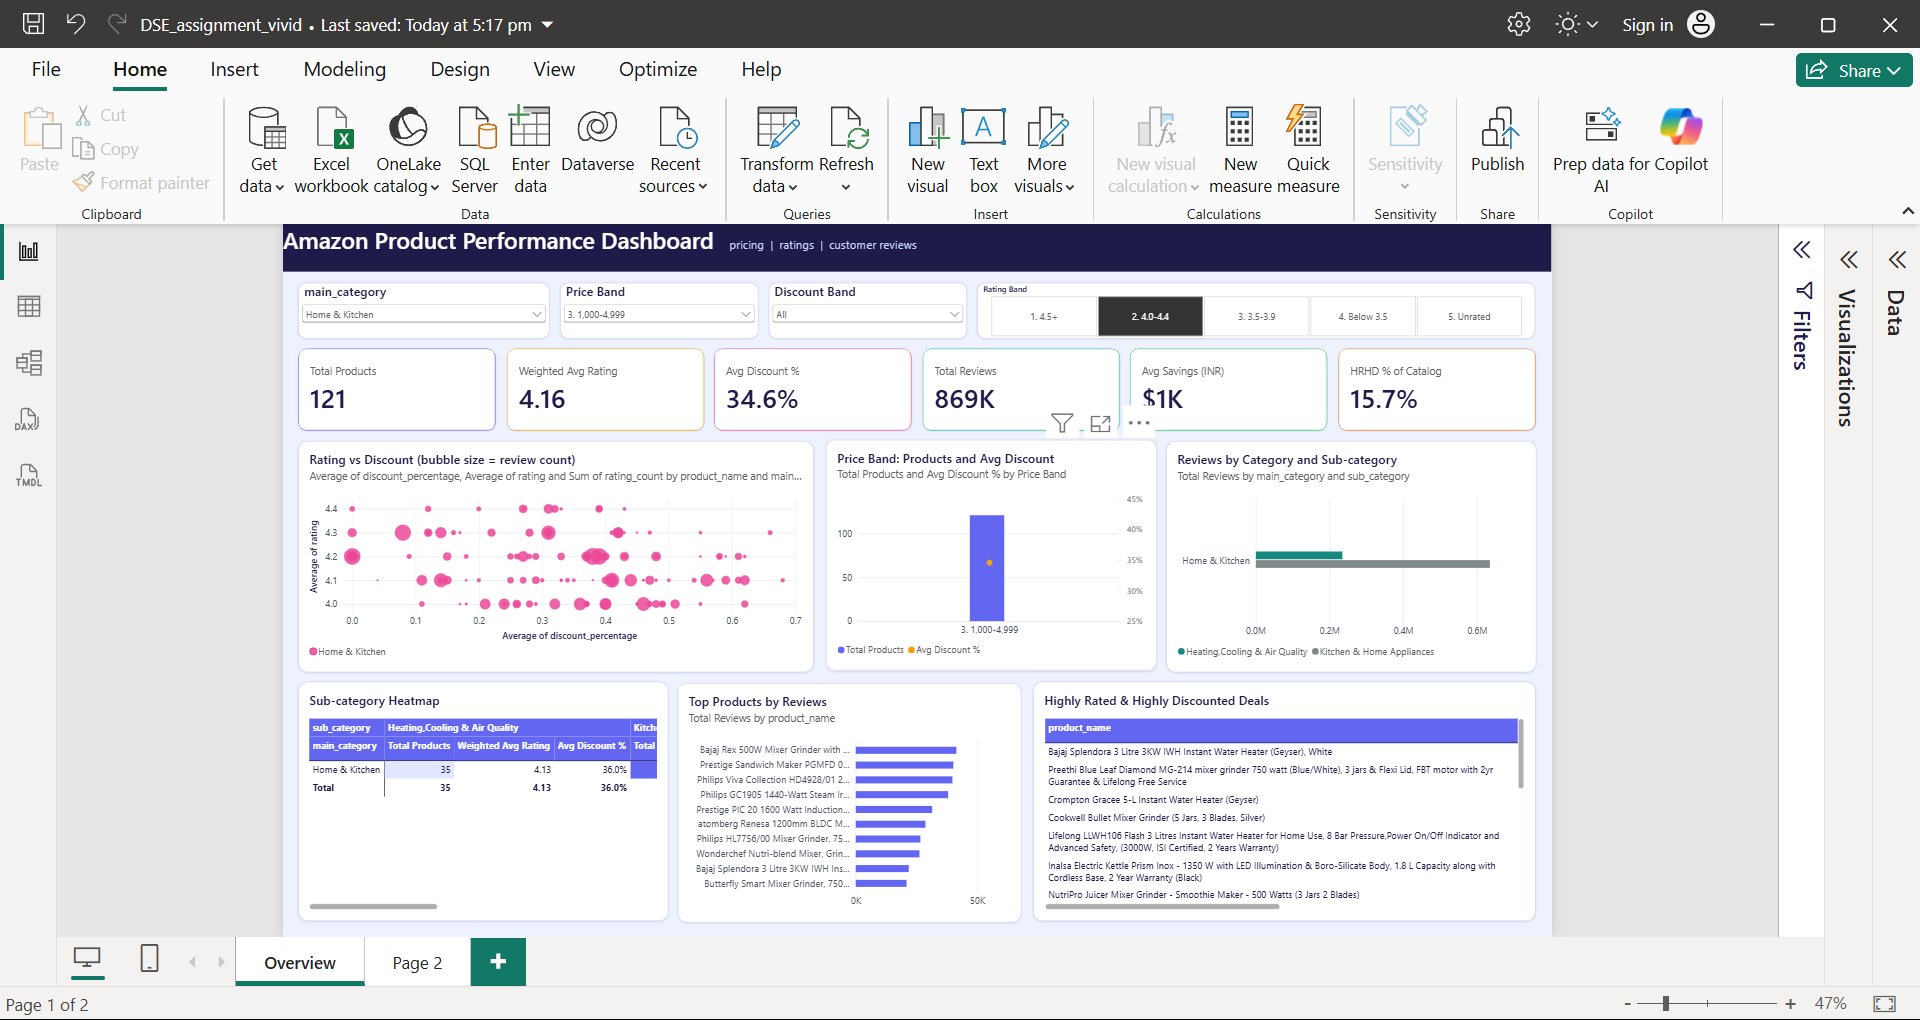

Layout of this report page (visuals, bound fields, positions):
{"tool":"powerbi","page":{"name":"Overview","canvas":[1920,1080],"ordinal":0},"visuals":[{"type":"textbox","box":[0,0,1920,72],"z":0},{"type":"slicer","fields":{"Values":["Products.main_category"]},"box":[24,88,380,84],"z":1},{"type":"slicer","fields":{"Values":["Products.Price Band"]},"box":[420,88,300,84],"z":2},{"type":"slicer","fields":{"Values":["Products.Discount Band"]},"box":[736,88,300,84],"z":3},{"type":"slicer","fields":{"Values":["Products.Rating Band"]},"box":[1052,88,844,84],"z":4},{"type":"cardVisual","fields":{"Data":["Products.Total Products"]},"box":[24,188,298.7,124],"z":5},{"type":"cardVisual","fields":{"Data":["Products.Weighted Avg Rating"]},"box":[338.7,188,298.7,124],"z":6},{"type":"cardVisual","fields":{"Data":["Products.Avg Discount %"]},"box":[653.3,188,298.7,124],"z":7},{"type":"cardVisual","fields":{"Data":["Products.Total Reviews"]},"box":[968,188,298.7,124],"z":8},{"type":"cardVisual","fields":{"Data":["Products.Avg Savings (INR)"]},"box":[1282.7,188,298.7,124],"z":9},{"type":"cardVisual","fields":{"Data":["Products.HRHD % of Catalog"]},"box":[1597.3,188,298.7,124],"z":10},{"type":"scatterChart","title":"Rating vs Discount (bubble size = review count)","fields":{"Category":["Products.product_name"],"Series":["Products.main_category"],"Size":["Sum(Products.rating_count)"],"X":["Avg(Products.discount_percentage)"],"Y":["Avg(Products.rating)"]},"box":[24,328,780,350],"z":11},{"type":"clusteredBarChart","title":"Reviews by Category and Sub-category","fields":{"Category":["Products.main_category"],"Series":["Products.sub_category"],"Y":["Products.Total Reviews"]},"box":[1337.3,328.5,560,350],"z":12},{"type":"lineClusteredColumnComboChart","title":"Price Band: Products and Avg Discount","fields":{"Category":["Products.Price Band"],"Y":["Products.Total Products"],"Y2":["Products.Avg Discount %"]},"box":[822.3,326.4,500,350],"z":13},{"type":"pivotTable","title":"Sub-category Heatmap","fields":{"Columns":["Products.sub_category"],"Rows":["Products.main_category"],"Values":["Products.Total Products","Products.Weighted Avg Rating","Products.Avg Discount %"]},"box":[24,694,560,362],"z":14},{"type":"clusteredBarChart","title":"Top Products by Reviews","fields":{"Category":["Products.product_name"],"Y":["Products.Total Reviews"]},"box":[597.7,695.2,520,362],"z":15},{"type":"tableEx","title":"Highly Rated & Highly Discounted Deals","fields":{"Values":["Products.product_name","Products.discounted_price","Products.actual_price","Products.discount_percentage","Products.rating","Products.rating_count","Products.HRHD Flag"]},"box":[1136,694,760,362],"z":16}]}

Visuals, with their boxes on the page's 1920x1080 design canvas (x1, y1, x2, y2). These are canvas units, not pixel positions in the 1920x1020 screenshot, which may show the page scaled, cropped or inside an application window:
textbox: select_region(0, 0, 1920, 72)
slicer - Products.main_category: select_region(24, 88, 404, 172)
slicer - Products.Price Band: select_region(420, 88, 720, 172)
slicer - Products.Discount Band: select_region(736, 88, 1036, 172)
slicer - Products.Rating Band: select_region(1052, 88, 1896, 172)
cardVisual - Products.Total Products: select_region(24, 188, 323, 312)
cardVisual - Products.Weighted Avg Rating: select_region(339, 188, 637, 312)
cardVisual - Products.Avg Discount %: select_region(653, 188, 952, 312)
cardVisual - Products.Total Reviews: select_region(968, 188, 1267, 312)
cardVisual - Products.Avg Savings (INR): select_region(1283, 188, 1581, 312)
cardVisual - Products.HRHD % of Catalog: select_region(1597, 188, 1896, 312)
"Rating vs Discount (bubble size = review count)" scatterChart: select_region(24, 328, 804, 678)
"Reviews by Category and Sub-category" clusteredBarChart: select_region(1337, 328, 1897, 678)
"Price Band: Products and Avg Discount" lineClusteredColumnComboChart: select_region(822, 326, 1322, 676)
"Sub-category Heatmap" pivotTable: select_region(24, 694, 584, 1056)
"Top Products by Reviews" clusteredBarChart: select_region(598, 695, 1118, 1057)
"Highly Rated & Highly Discounted Deals" tableEx: select_region(1136, 694, 1896, 1056)
